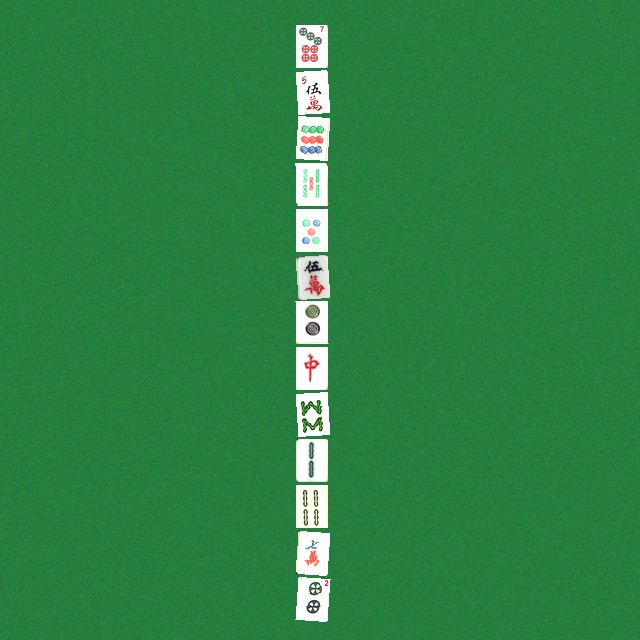tile: (295, 24, 327, 67), (295, 70, 327, 113), (295, 116, 327, 159), (295, 162, 327, 205), (295, 208, 327, 251), (295, 254, 327, 297), (295, 300, 327, 343), (295, 346, 327, 389), (295, 392, 327, 435), (295, 438, 327, 481), (295, 484, 327, 527), (295, 530, 327, 573), (295, 576, 327, 619)
